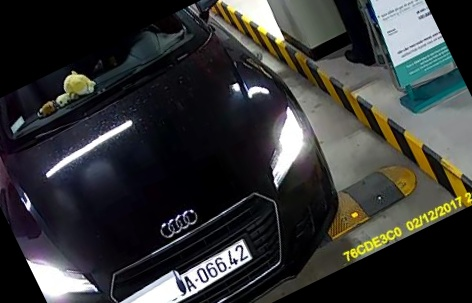plate: (163, 239, 253, 298)
